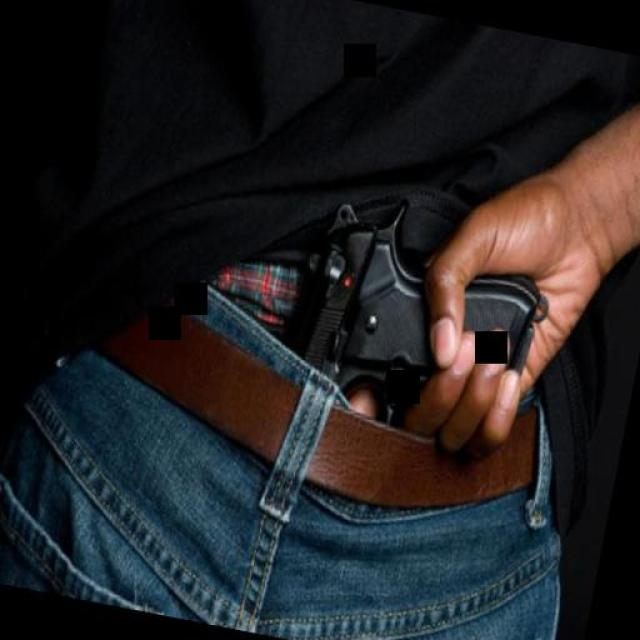gun: (255, 180, 566, 530)
